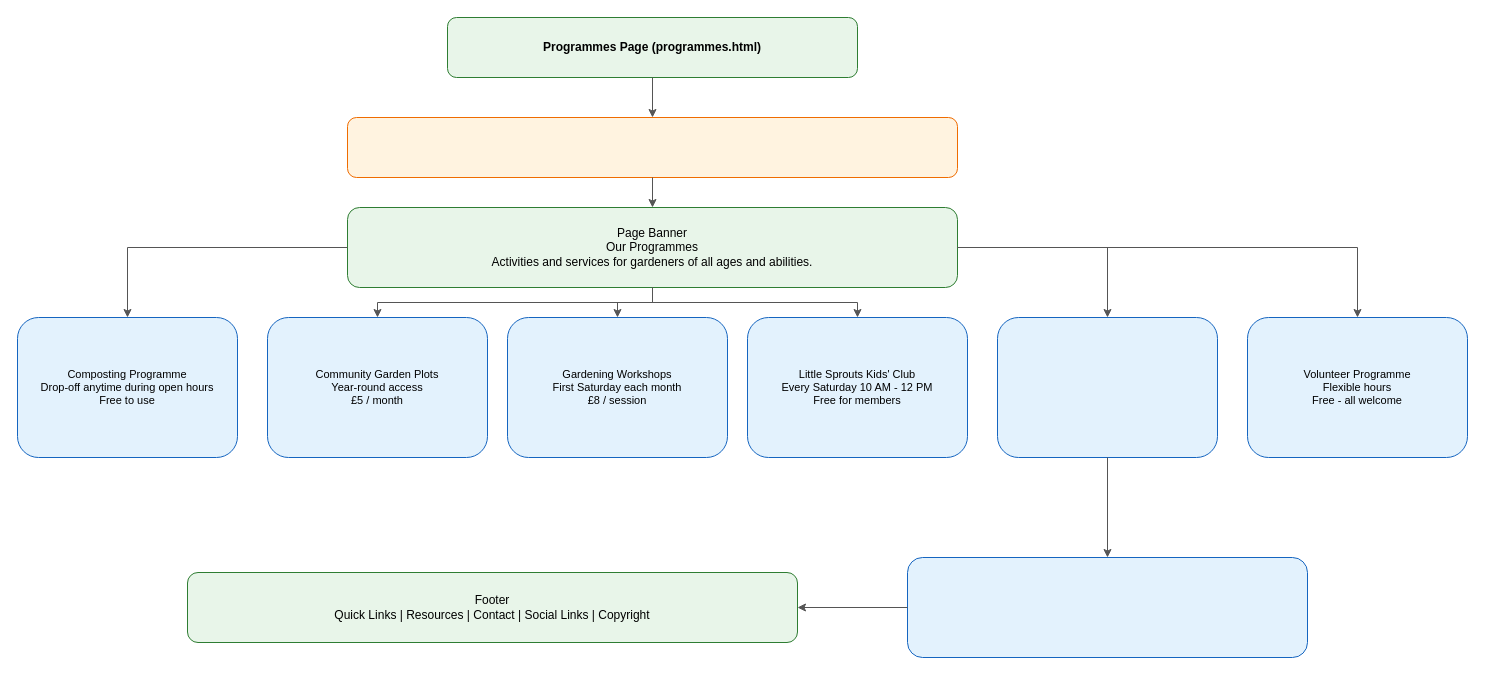
The diagram is 1485 pixels wide and 675 high, and some of its shapes have lost their labels. Each missing label, with the centre of its shape:
Harvest Share Scheme Seasonal June - October £4 / box weekly: the point at 1107,387
Membership CTA Become a Member Join GreenHaven Today button: the point at 1107,607
Navigation Bar Home | About | Programmes | Events | Gallery | Contact: the point at 652,147
